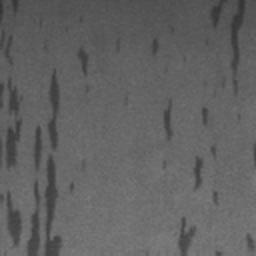Red iron sheet: (0, 0, 90, 256), (209, 0, 247, 96), (179, 216, 255, 256), (193, 147, 219, 205), (163, 97, 173, 141), (151, 36, 159, 54), (201, 108, 209, 125)
